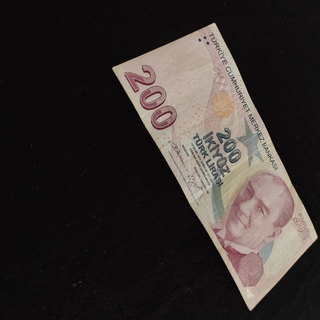200TLFront: (111, 22, 319, 311)
